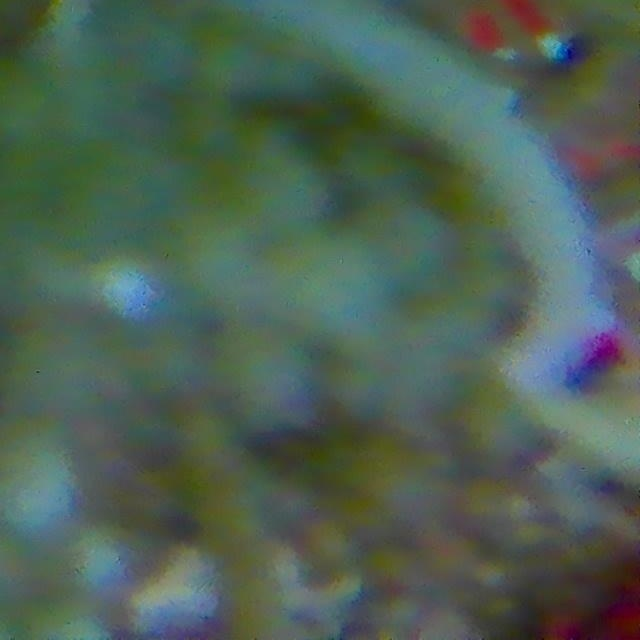SeaGrape: (225, 335, 320, 428), (0, 433, 75, 543), (40, 525, 131, 603), (24, 599, 120, 639)
